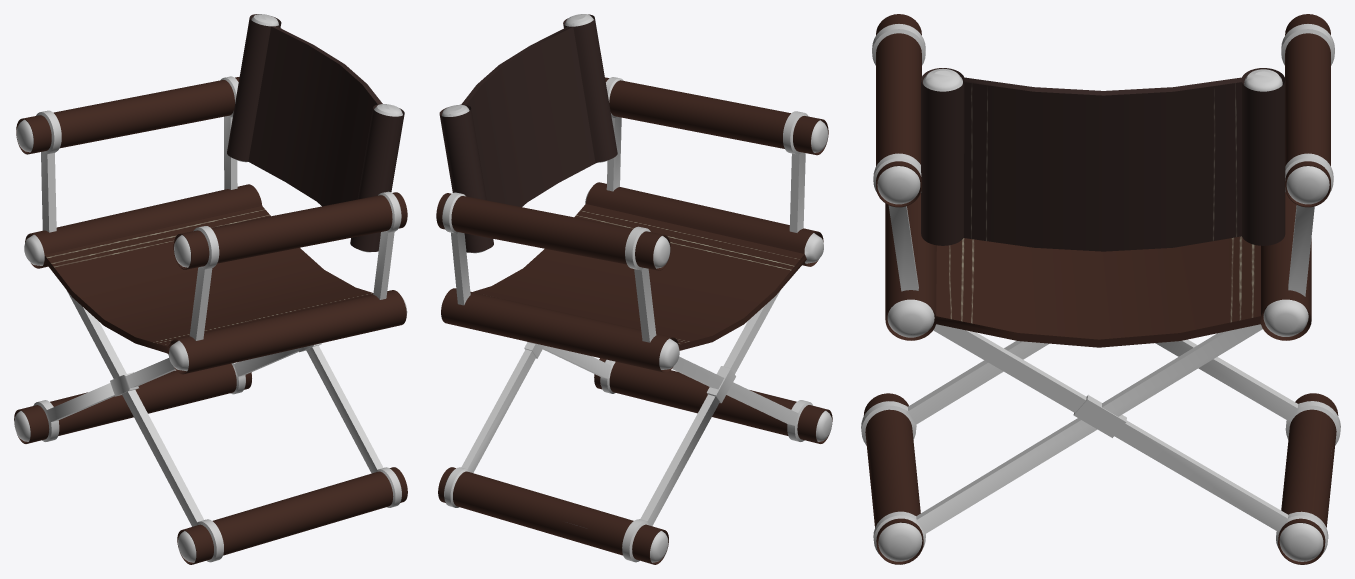
Rendered from chair.fbx.
The picture shows the model from 3 angles, left to right: view 1: azimuth 30°, elevation 25°; view 2: azimuth 150°, elevation 25°; view 3: azimuth 270°, elevation 25°; orthographic projection. The views are drawn at different scales.
Visible parts, largest first — view 1: Cylinder.006, Cylinder.001, Cylinder.008; view 2: Cylinder.006, Cylinder.001, Cylinder.008; view 3: Cylinder.006, Cylinder.001, Cylinder.008.
Boxes of the visible parts, <box> form: Cylinder.006: <box>14,77,407,564</box>; Cylinder.001: <box>227,14,404,251</box>; Cylinder.008: <box>14,14,407,562</box>; Cylinder.006: <box>436,77,832,564</box>; Cylinder.001: <box>439,14,617,252</box>; Cylinder.008: <box>441,14,832,562</box>; Cylinder.006: <box>863,14,1338,564</box>; Cylinder.001: <box>921,68,1285,251</box>; Cylinder.008: <box>861,24,1340,561</box>.
Bounding box in the file's own units: 1798 × 2726 × 2343.
